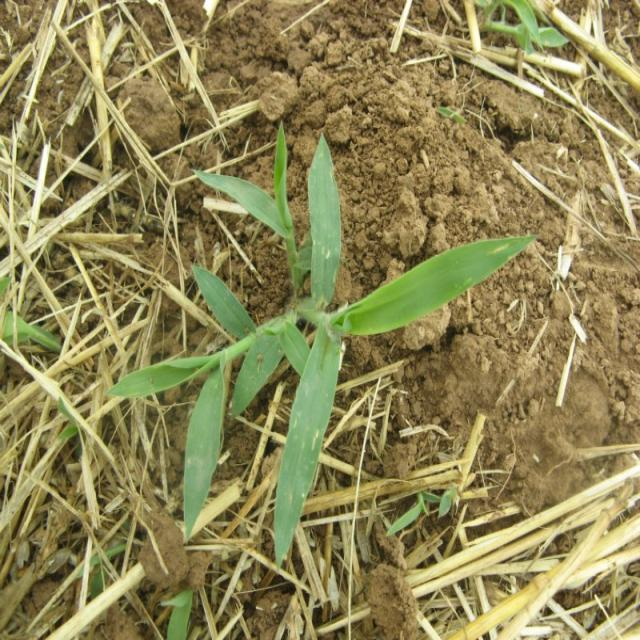bg: (111, 122, 534, 566)
